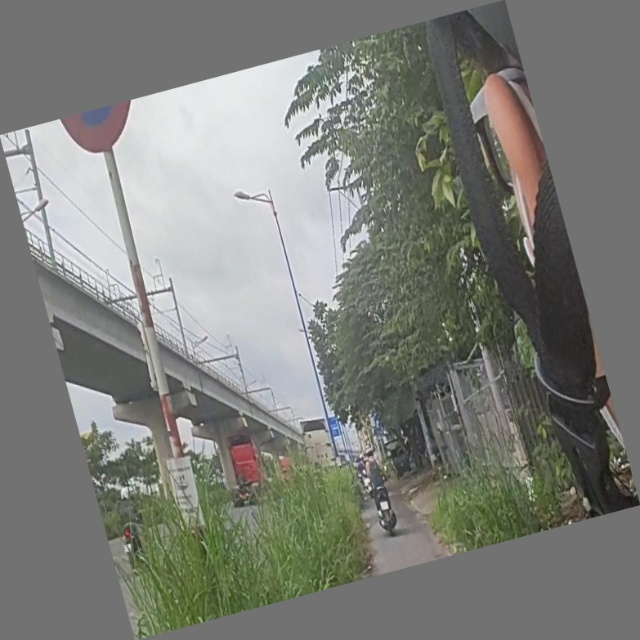I.409: (373, 415, 386, 433)
